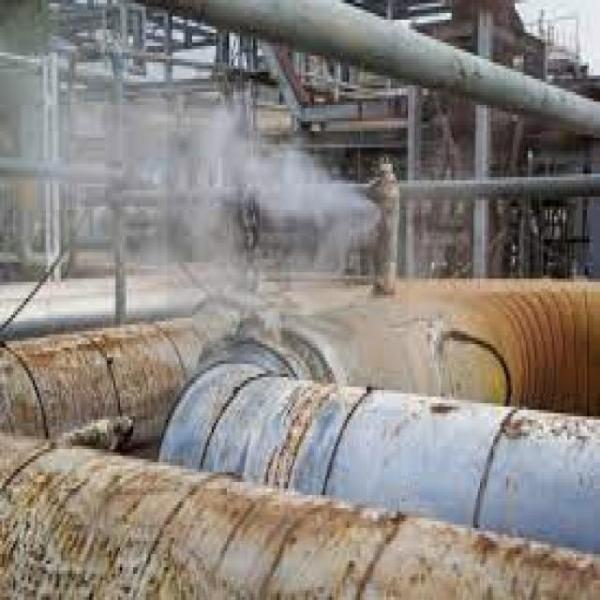gas: (168, 99, 408, 429)
